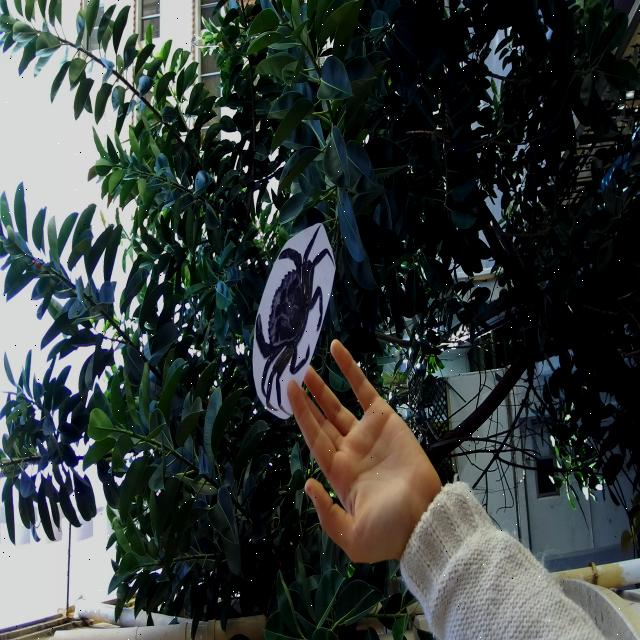European_Green_Crab: (238, 198, 345, 430)
